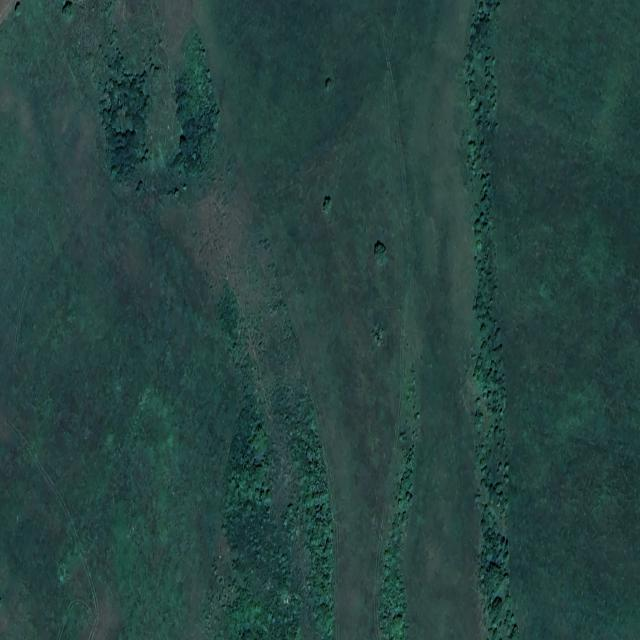bare-soil: (0, 0, 18, 25)
grass: (494, 0, 640, 639), (103, 27, 220, 209)
tree: (206, 282, 341, 639), (458, 1, 521, 639), (102, 32, 225, 206), (383, 350, 422, 639), (371, 320, 384, 354), (372, 240, 388, 267), (58, 1, 77, 20), (321, 187, 333, 217), (321, 71, 329, 94)
